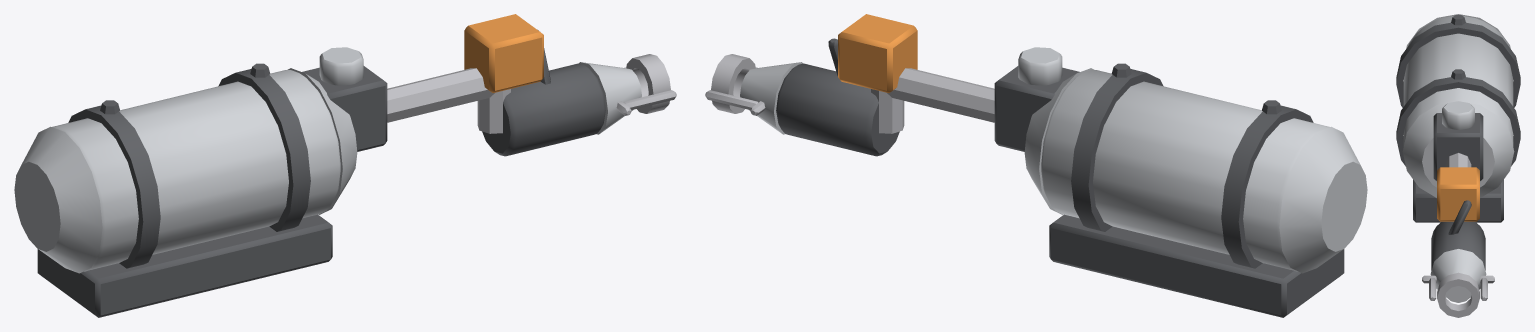
Rendered from flamethrower.glb.
3 renders of one model, left to right at view 1: azimuth 30°, elevation 25°; view 2: azimuth 150°, elevation 25°; view 3: azimuth 270°, elevation 25°, orthographic. The views are drawn at different scales.
Visible parts, largest first — view 1: body; view 2: body; view 3: body.
Boxes of the visible parts, <box> form: body: <box>14,14,676,317</box>; body: <box>705,14,1367,317</box>; body: <box>1396,14,1520,317</box>.
Bounding box in the file's own units: 0.496 × 0.1405 × 0.116.
